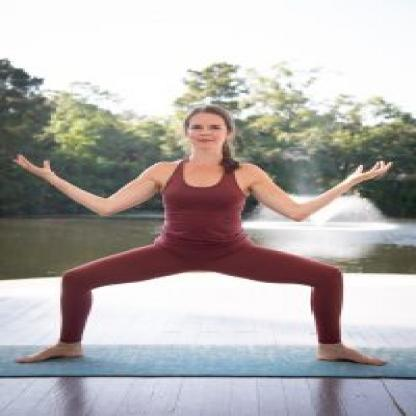godness: (10, 101, 398, 371)
